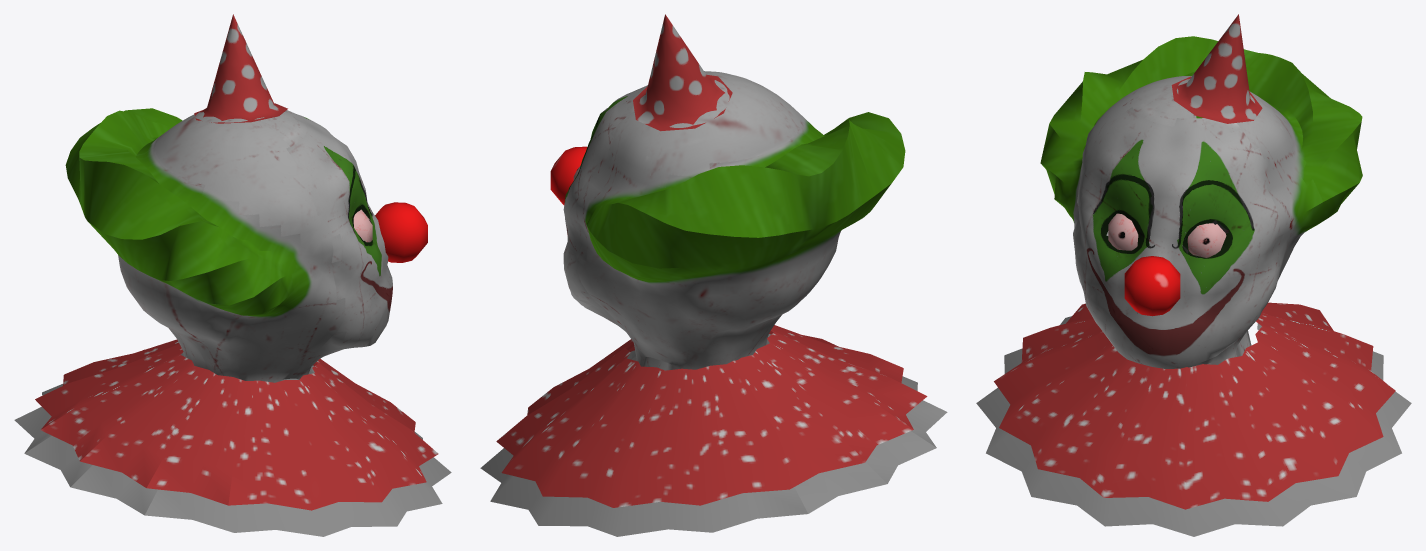
Rendered from clown-green.fbx.
3 views of the same model, side by side, from view 1: azimuth 30°, elevation 25°; view 2: azimuth 150°, elevation 25°; view 3: azimuth 270°, elevation 25° (orthographic). The views are drawn at different scales.
Parts seen in each view (by area): view 1: clown_green; view 2: clown_green; view 3: clown_green.
Boxes of the visible parts, box(x1,y1,x2,y2) form: clown_green: box(14, 14, 451, 536); clown_green: box(480, 14, 947, 536); clown_green: box(976, 14, 1411, 536).
Bounding box in the file's own units: 134 × 153 × 136.
1 material, 1 textured.
